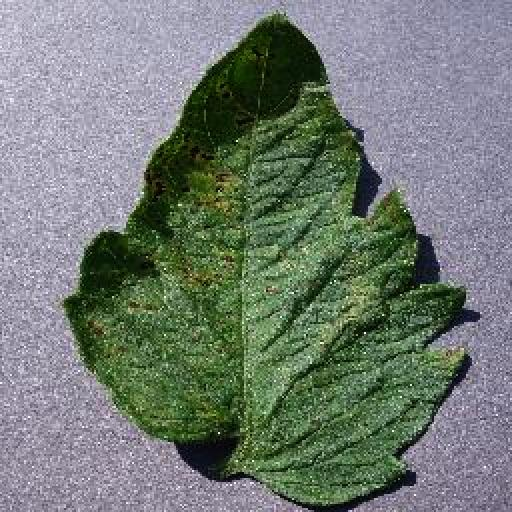disease_tomato: (60, 12, 466, 512)
